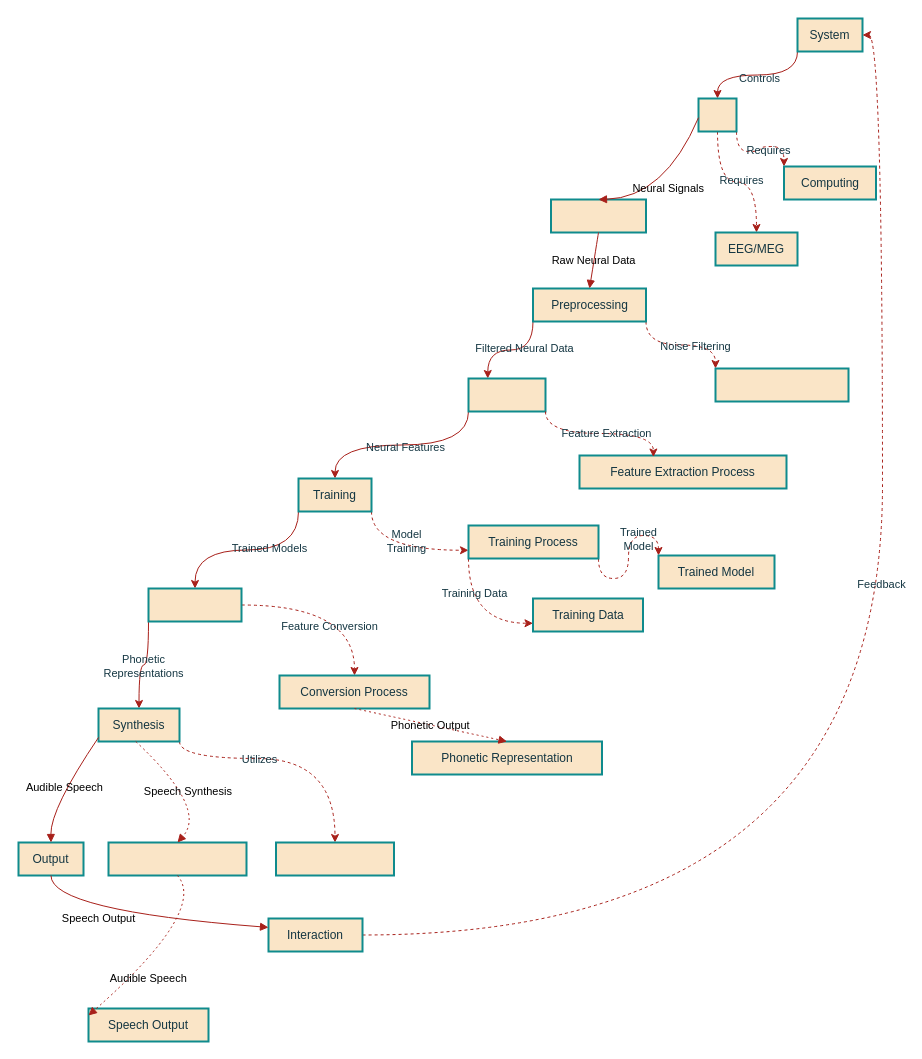
Some shapes in this 922 by 1059 pixel diagram are drawn without their labels. Each missing label, with the centre of its shape:
Acquisition: point (598, 215)
BCI: point (717, 114)
Conversion: point (194, 604)
Features: point (506, 394)
Filtering Process: point (781, 384)
Speech Engine: point (334, 858)
Synthesis Process: point (177, 858)
